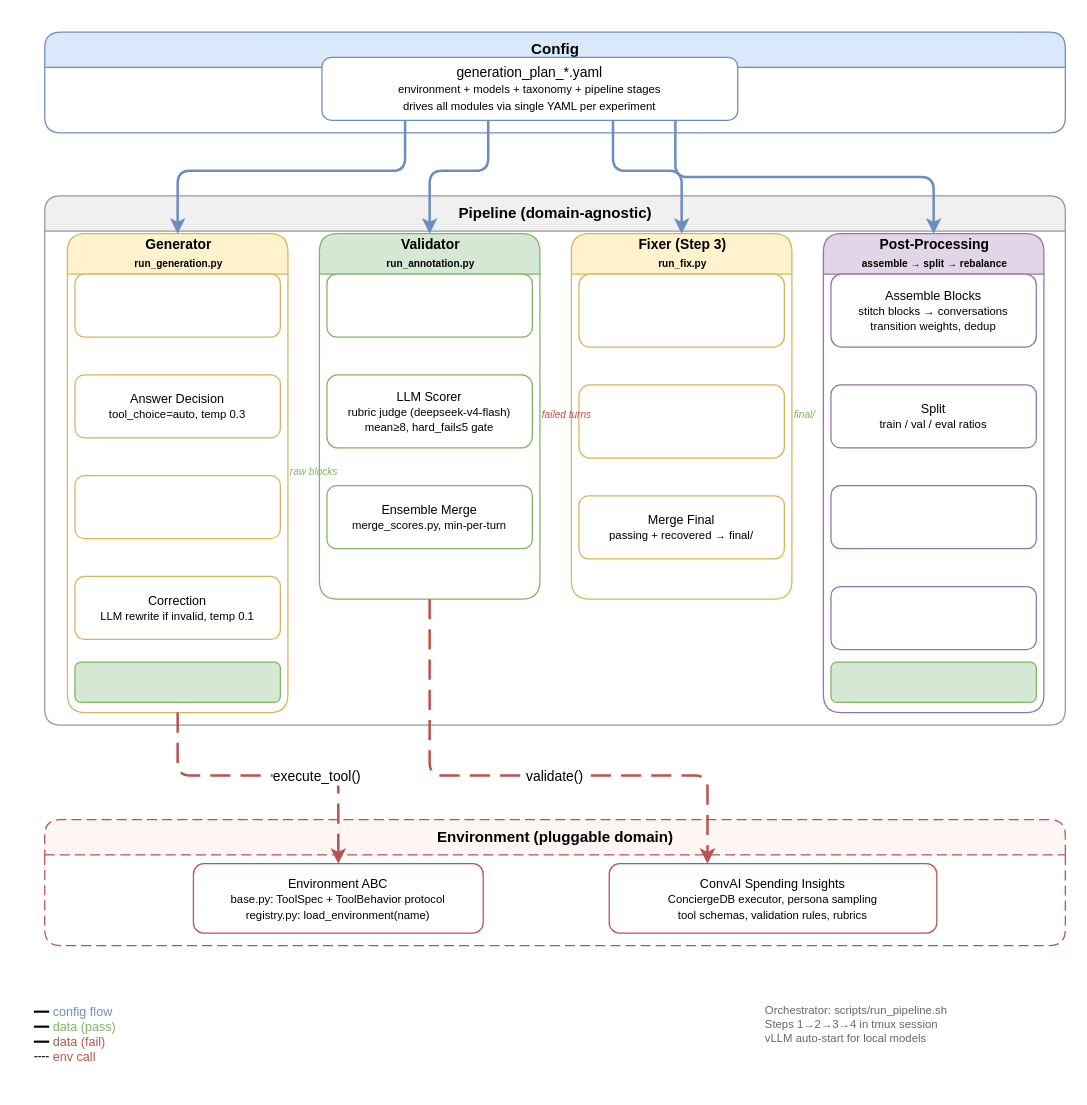
Image size: 1087x1105. Some labels were removed from this diagram. Each missing label, with the centre of its shape:
Analysis dataset quality report: (933,617)
Dedup + Filter dedup.py, truncation removal: (429,305)
LLM Rewrite deepseek-v4-flash, temp 0.3 preserves conversation context: (681,310)
output/raw/ multi_turn.json blocks: (177,681)
Query Gen deepseek-v4-flash, temp 0.7: (177,305)
Re-annotate same scorer, same rubric ensemble merge if multi-model: (681,421)
Rebalance tool:text ratio, contamination: (933,516)
Tool Result + Response ToolBehavior dispatch (EXEC/SYNTH/DET/TERM): (177,506)
train.json / eval.json distillation + evaluation sets: (933,681)
